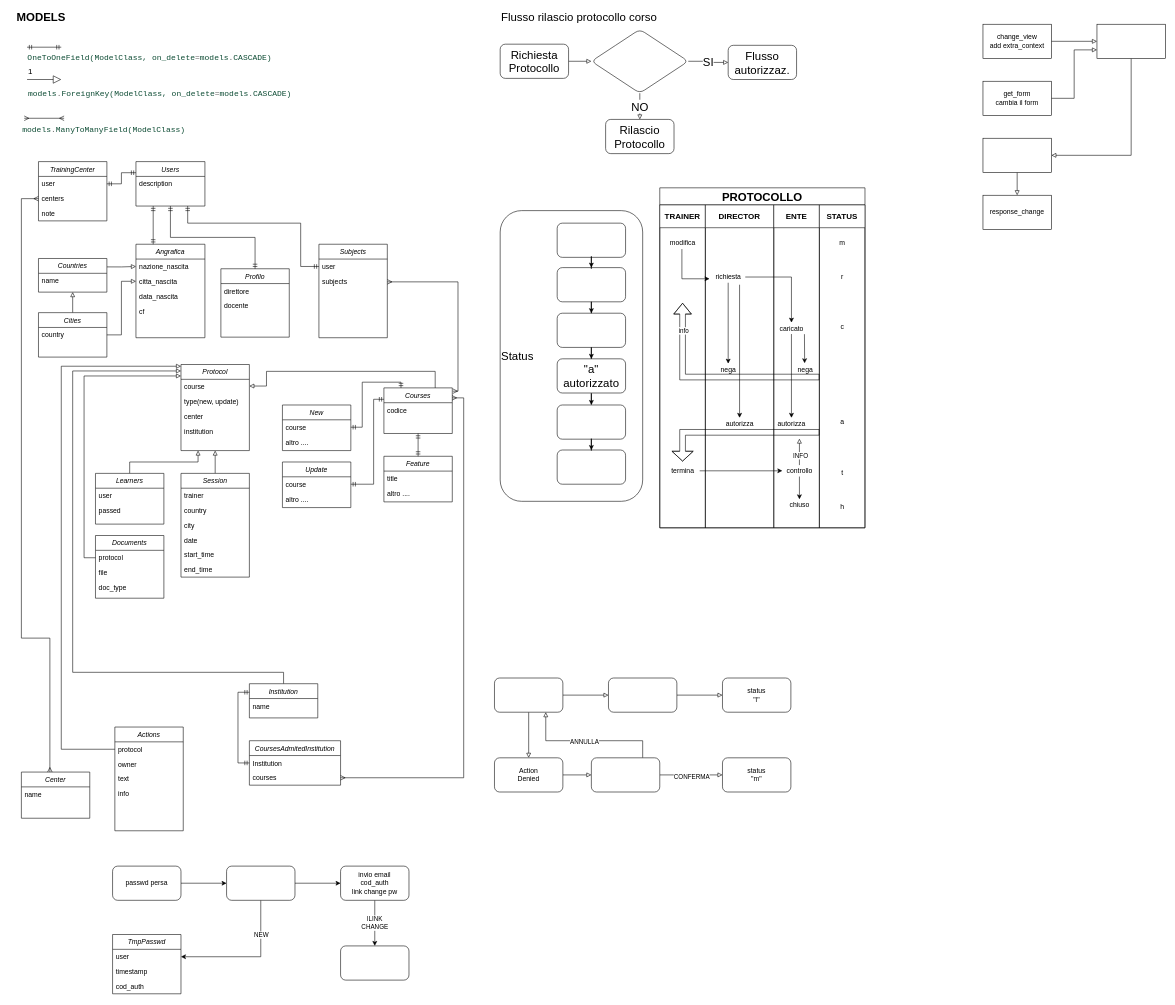
Some shapes in this 1175 by 1005 pixel diagram are drawn without their labels. The shapes that lost their labels are listed below. From the top down, each one's centre as x and y in pixels, then its label:
point (639, 61): ENTE ESTERNO
point (1130, 41): TemplateResponse with extra_context
point (1016, 155): save obj save related
point (591, 240): "m" modifica
point (591, 284): "r" richiesta
point (591, 330): "c" caricato
point (591, 421): "t" terminato
point (591, 466): "h" chiuso
point (528, 694): status "r"
point (642, 694): Action Load
point (625, 774): POPUP info
point (260, 883): INSERT EMAIL
point (374, 962): nuova password + cod auth
